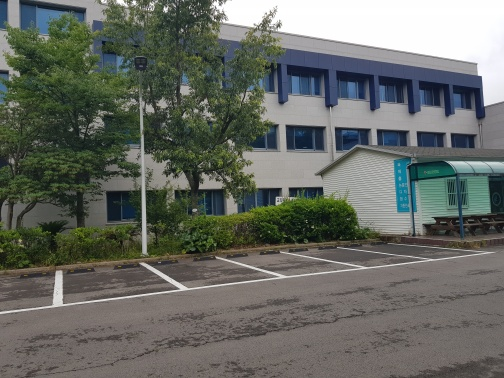College of Social Sciences: (169, 21, 504, 239)
